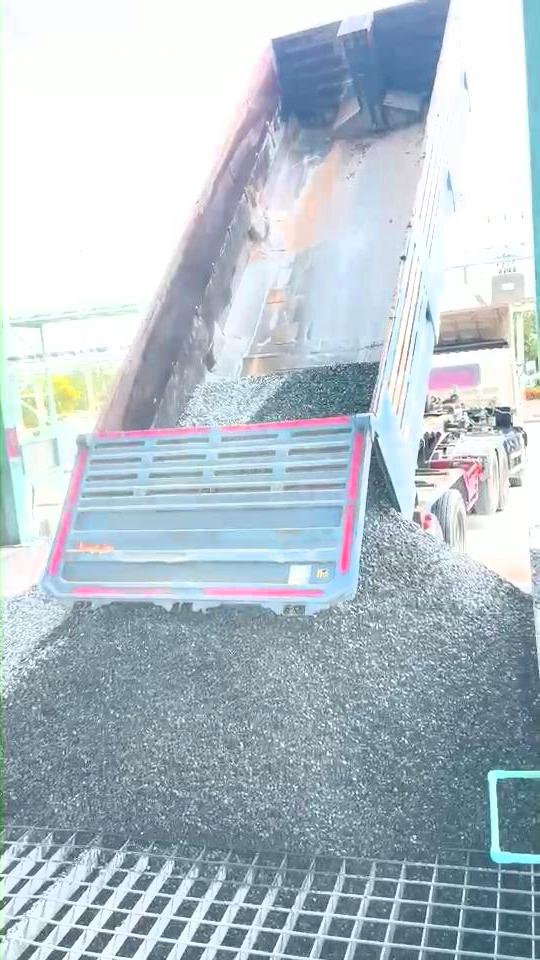gravel: (5, 477, 540, 855), (179, 363, 377, 425), (2, 586, 65, 693), (497, 778, 540, 856)
